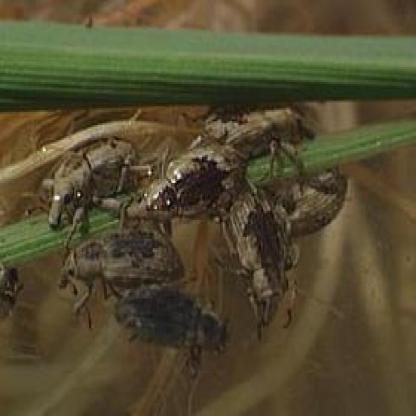rice-bug: (46, 99, 352, 346), (0, 259, 21, 323)
